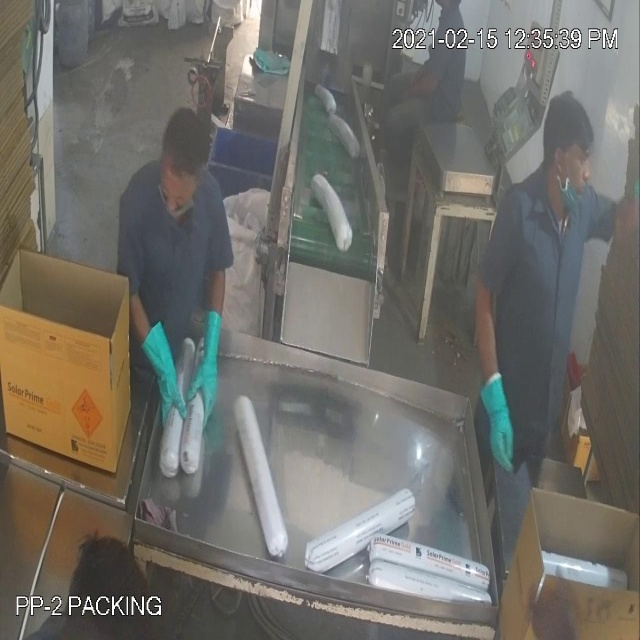Guantes: (136, 302, 186, 438), (185, 298, 226, 437), (474, 354, 518, 481)
